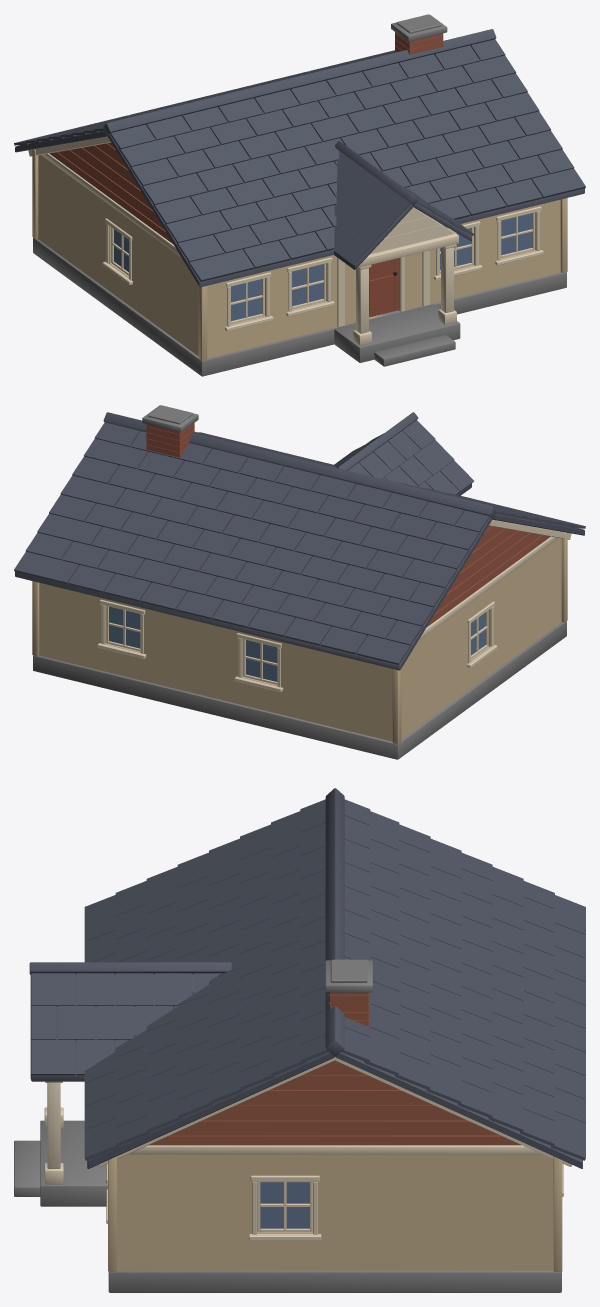
The model's file is House.fbx.
3 views of the same model, one above another, from view 1: azimuth 30°, elevation 25°; view 2: azimuth 150°, elevation 25°; view 3: azimuth 270°, elevation 25° (orthographic). The views are drawn at different scales.
Parts seen in each view (by area): view 1: House_Mesh; view 2: House_Mesh; view 3: House_Mesh.
Part boxes in pixels (x1,y1,x2,y2): House_Mesh: (14,14,585,376); House_Mesh: (14,405,585,759); House_Mesh: (14,788,585,1292).
Size of the model in its own units: 10.74 by 5.66 by 10.27.
